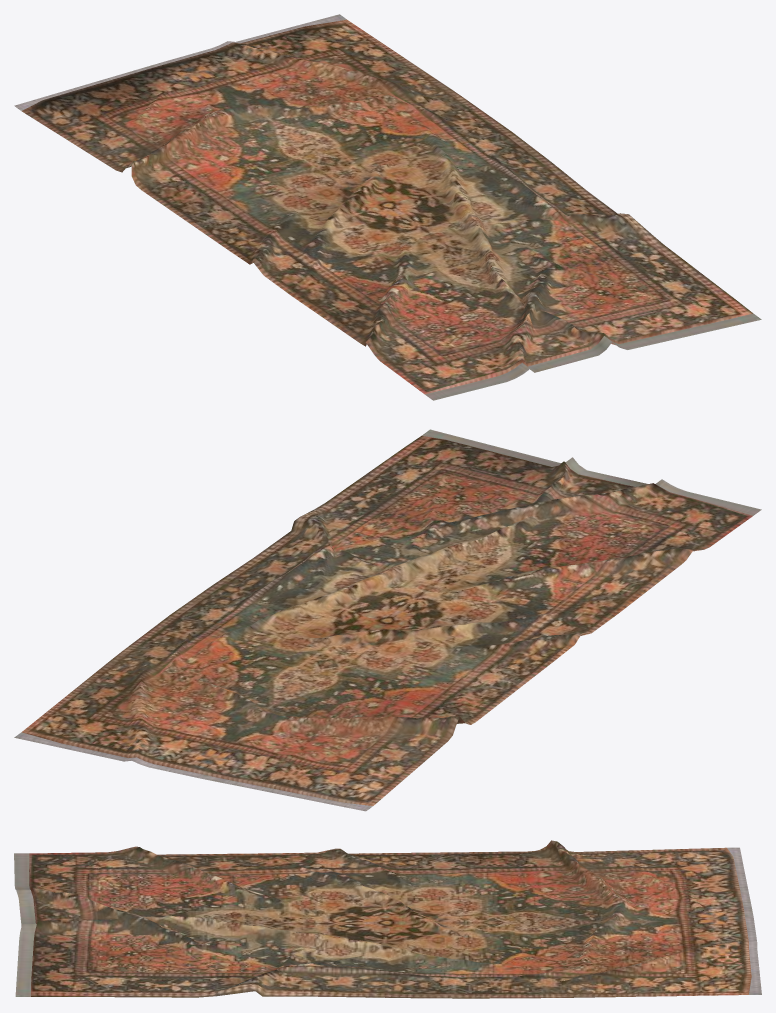
The model's file is carpet.glb.
3 views of the same model, one above another, from view 1: azimuth 30°, elevation 25°; view 2: azimuth 150°, elevation 25°; view 3: azimuth 270°, elevation 25° (orthographic). The views are drawn at different scales.
Visible parts, largest first — view 1: Old_Persian_carpet; view 2: Old_Persian_carpet; view 3: Old_Persian_carpet.
Boxes of the visible parts, x1,y1,x2,y2 form: Old_Persian_carpet: (14,14,761,400); Old_Persian_carpet: (14,429,761,811); Old_Persian_carpet: (14,840,761,998).
Bounding box in the file's own units: 3.11 × 0.153 × 6.51.
Materials: 1 (1 with a texture image).
